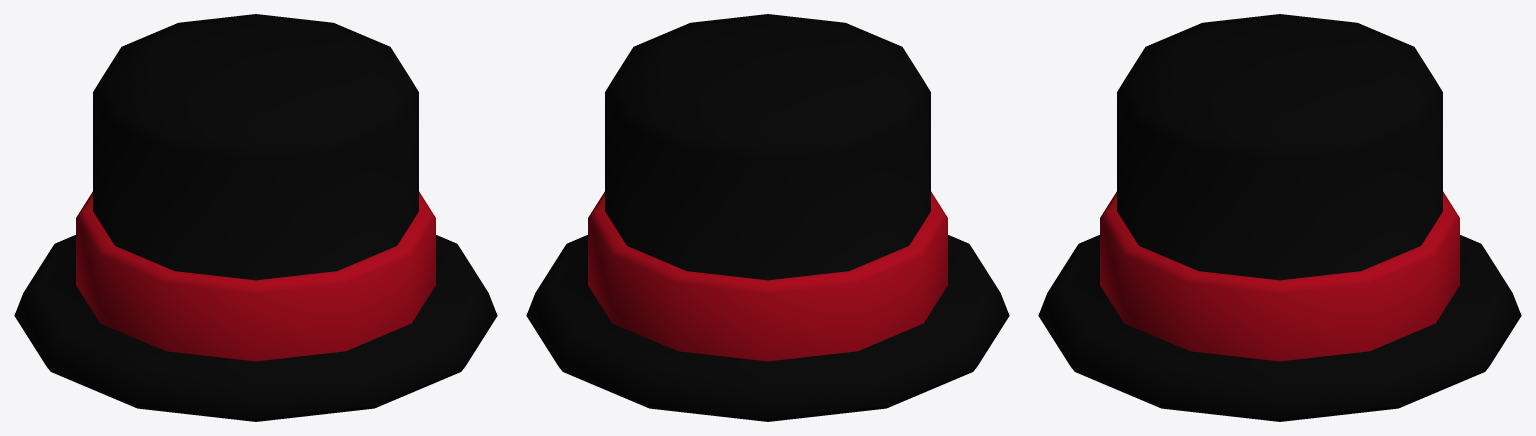
Rendered from Hat 1.fbx.
The picture shows the model from 3 angles, left to right: view 1: azimuth 30°, elevation 25°; view 2: azimuth 150°, elevation 25°; view 3: azimuth 270°, elevation 25°; orthographic projection.
Visible parts, largest first — view 1: Hat; view 2: Hat; view 3: Hat.
Boxes of the visible parts, box(x1,y1,x2,y2) form: Hat: box(14, 14, 497, 421); Hat: box(526, 14, 1009, 421); Hat: box(1038, 14, 1521, 421).
Size of the model in its own units: 118 by 72.03 by 118.
